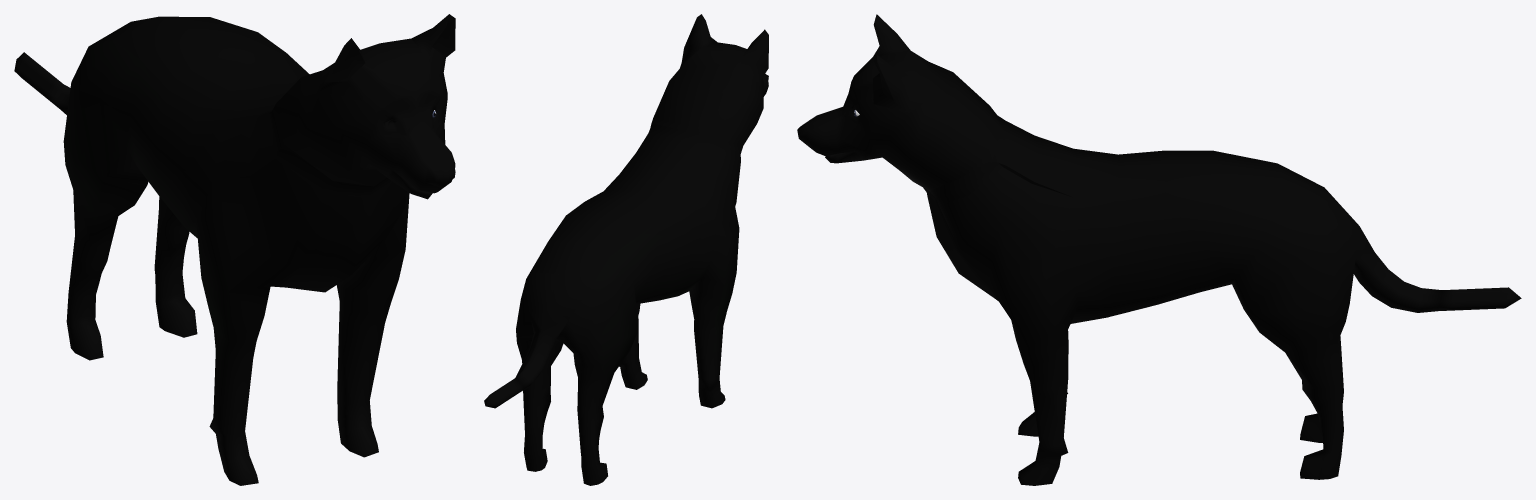
File: Dog_00m1.fbx_Collection.fbx
3 views of the same model, side by side, from view 1: azimuth 30°, elevation 25°; view 2: azimuth 150°, elevation 25°; view 3: azimuth 270°, elevation 25° (orthographic). The views are drawn at different scales.
Visible parts, largest first — view 1: dog_001; view 2: dog_001; view 3: dog_001.
Boxes of the visible parts, bbox=[...] form: dog_001: bbox=[14, 14, 455, 485]; dog_001: bbox=[484, 14, 768, 485]; dog_001: bbox=[797, 14, 1521, 485].
Size of the model in its own units: 31.97 by 83.41 by 129.
